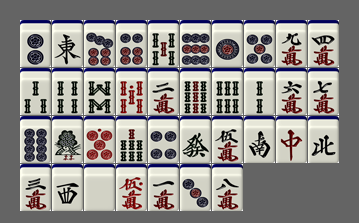0m: (116, 164, 147, 211)
0p: (84, 116, 115, 163)
0s: (116, 68, 147, 115)
1m: (148, 164, 179, 211)
1p: (212, 20, 243, 67)
1s: (52, 116, 83, 163)
1z: (52, 20, 83, 67)
2m: (148, 68, 179, 115)
2p: (20, 20, 51, 67)
2s: (244, 68, 275, 115)
2z: (244, 116, 275, 163)
3m: (20, 164, 51, 211)
3p: (180, 164, 211, 211)
3s: (20, 68, 51, 115)
3z: (52, 164, 83, 211)
4m: (308, 20, 339, 67)
4p: (148, 116, 179, 163)
4s: (52, 68, 83, 115)
4z: (308, 116, 339, 163)
5m: (212, 116, 243, 163)
5p: (244, 20, 275, 67)
5s: (148, 20, 179, 67)
5z: (84, 164, 115, 211)
6m: (276, 68, 307, 115)
6p: (116, 20, 147, 67)
6s: (212, 68, 243, 115)
6z: (180, 116, 211, 163)
7m: (308, 68, 339, 115)
7p: (84, 20, 115, 67)
7s: (116, 116, 147, 163)
7z: (276, 116, 307, 163)
8m: (212, 164, 243, 211)
8p: (20, 116, 51, 163)
8s: (84, 68, 115, 115)
9m: (276, 20, 307, 67)
9p: (180, 20, 211, 67)
9s: (180, 68, 211, 115)
